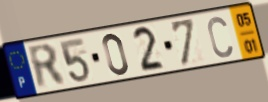0: (101, 32, 130, 77)
2: (132, 24, 168, 75)
5: (57, 36, 93, 85)
7: (169, 16, 197, 68)
C: (206, 15, 235, 60)
R: (24, 42, 69, 92)
